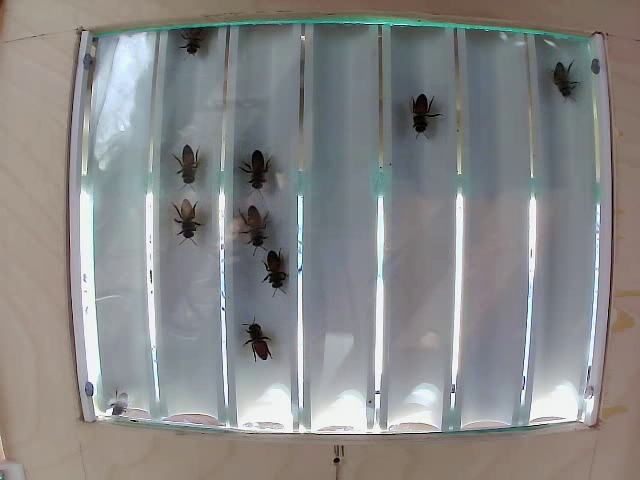bee: (164, 139, 214, 196), (414, 94, 450, 155), (235, 142, 281, 186), (255, 246, 297, 290), (231, 317, 268, 364), (160, 192, 191, 243), (231, 207, 272, 241), (552, 53, 576, 107)
